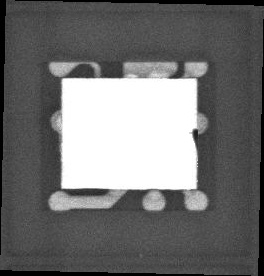DIE_BROKEN: (190, 127, 199, 150)
